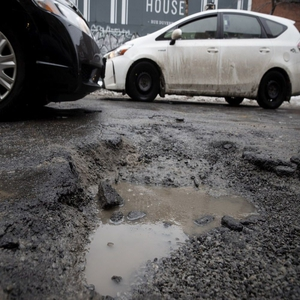pothole: (68, 139, 300, 295)
